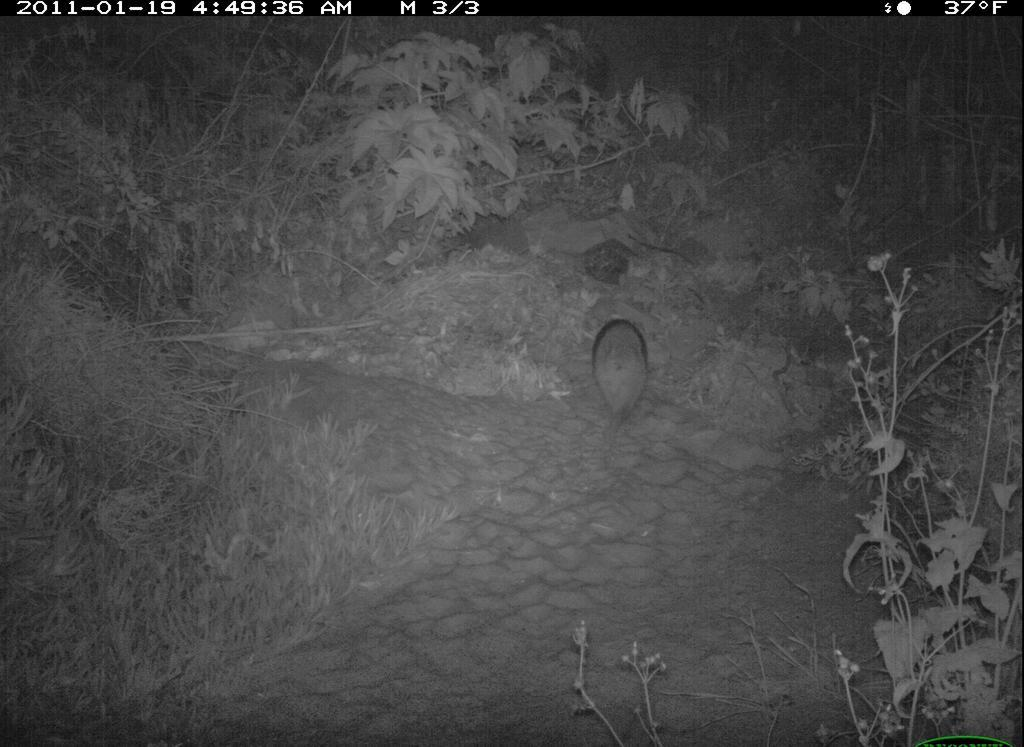raccoon: (582, 301, 652, 473)
